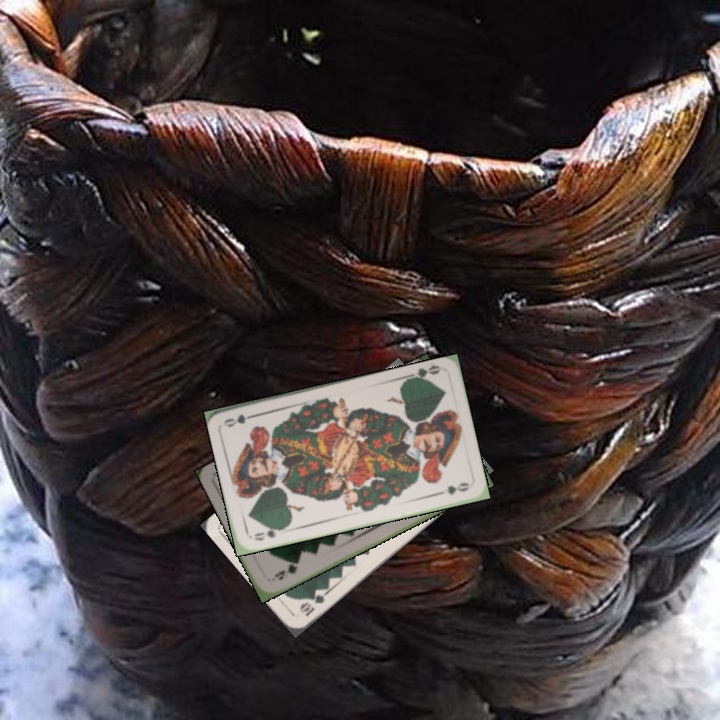G10: (295, 588, 330, 619)
G9: (270, 558, 302, 583)
GO: (404, 361, 444, 384), (250, 523, 287, 544)
